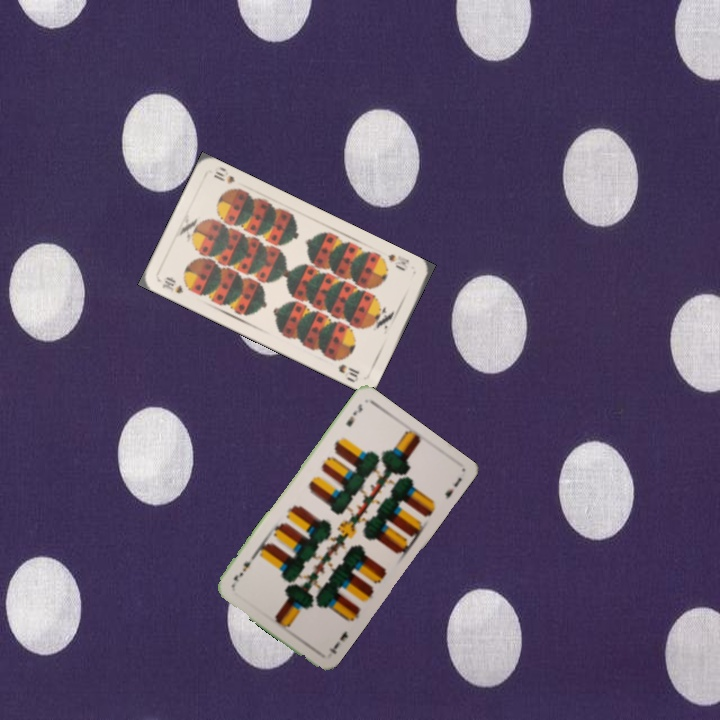E7: (325, 626, 350, 657), (342, 400, 365, 429)
S10: (383, 250, 412, 274), (158, 273, 186, 296)
